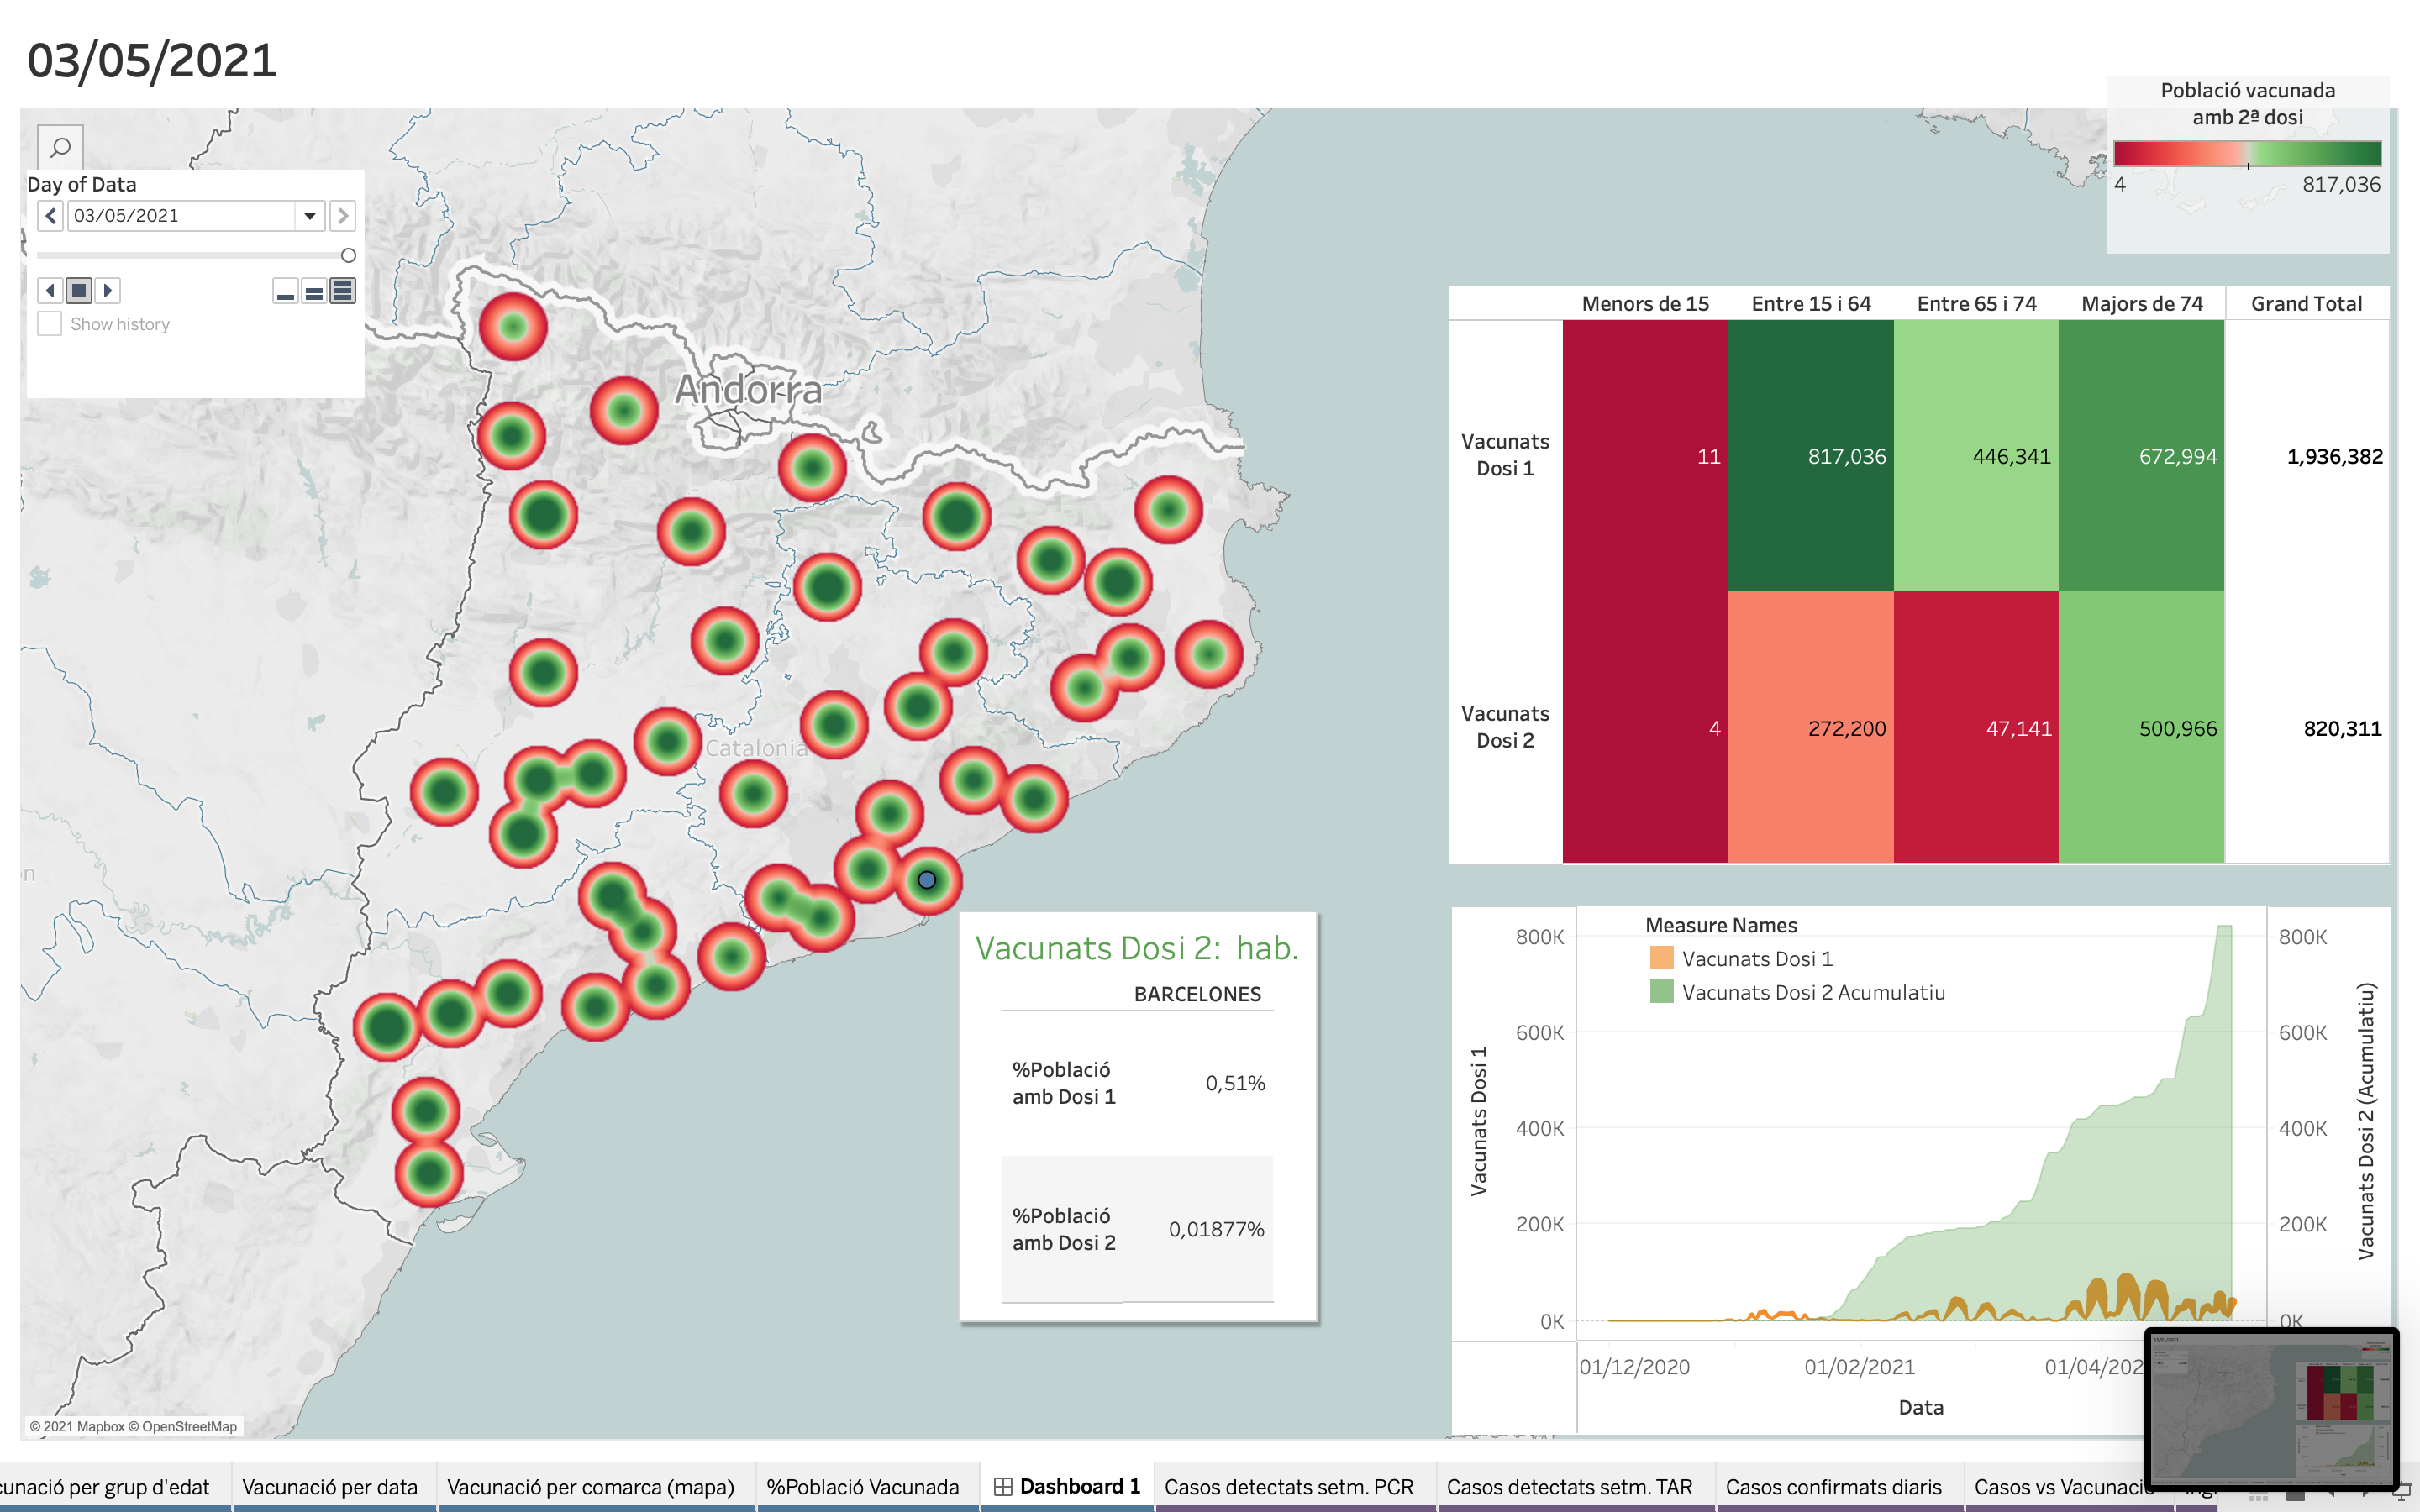

The page's visual inventory and layout, read from the dashboard file:
{"tool":"tableau","page":{"name":"Dashboard 1","canvas":[1000,1000],"units":"permille","ordinal":1},"visuals":[{"type":"worksheet","box":[0,0,1000,1000]},{"type":"worksheet","param":"horz","box":[6.7,11.4,986.7,977.2]},{"type":"worksheet","box":[6.7,11.4,986.7,977.2]},{"type":"worksheet","title":"Vacunació per comarca (mapa)","mark":"Heatmap","rows":["LATITUDE"],"cols":["LONGITUDE"],"box":[6.7,11.4,986.7,977.2]},{"type":"worksheet","title":"Vacunació per grup d'edat","mark":"Square","cols":["GRUP_EDAT"],"param":"[federated.1p4ngpn01tn2bf1b4m70l0nsrzfb].[Multiple Values]","box":[870.8,51.4,116.7,122.7]},{"type":"worksheet","title":"Vacunació per comarca (mapa)","mark":"Heatmap","rows":["LATITUDE"],"cols":["LONGITUDE"],"box":[10.8,115.5,140,156.9]},{"type":"worksheet","title":"Vacunació per grup d'edat","mark":"Square","cols":["GRUP_EDAT"],"box":[598.3,195.4,390,396.6]},{"type":"worksheet","title":"Vacunació per data","mark":"Automatic","rows":["VACUNATS_DOSI_1","VACUNATS_DOSI_2"],"cols":["DATA"],"box":[600,619.1,389.2,362.3]},{"type":"worksheet","title":"Vacunació per data","mark":"Automatic","rows":["VACUNATS_DOSI_1","VACUNATS_DOSI_2"],"cols":["DATA"],"param":"[federated.1p4ngpn01tn2bf1b4m70l0nsrzfb].[:Measure Names]","box":[680,623.4,153.3,82.7]}]}

Visuals, with their boxes on the dashboard's canvas, which has no fixed pixel size, in thousandths of its width and height (x1, y1, x2, y2). These are canvas units, not pixel positions in the 2420x1512 screenshot, which may show the page scaled, cropped or inside an application window:
worksheet: left=0, top=0, right=1000, bottom=1000
worksheet: left=7, top=11, right=993, bottom=989
worksheet: left=7, top=11, right=993, bottom=989
"Vacunació per comarca (mapa)" worksheet (Heatmap marks): left=7, top=11, right=993, bottom=989
"Vacunació per grup d'edat" worksheet (Square marks): left=871, top=51, right=988, bottom=174
"Vacunació per comarca (mapa)" worksheet (Heatmap marks): left=11, top=116, right=151, bottom=272
"Vacunació per grup d'edat" worksheet (Square marks): left=598, top=195, right=988, bottom=592
"Vacunació per data" worksheet: left=600, top=619, right=989, bottom=981
"Vacunació per data" worksheet: left=680, top=623, right=833, bottom=706
